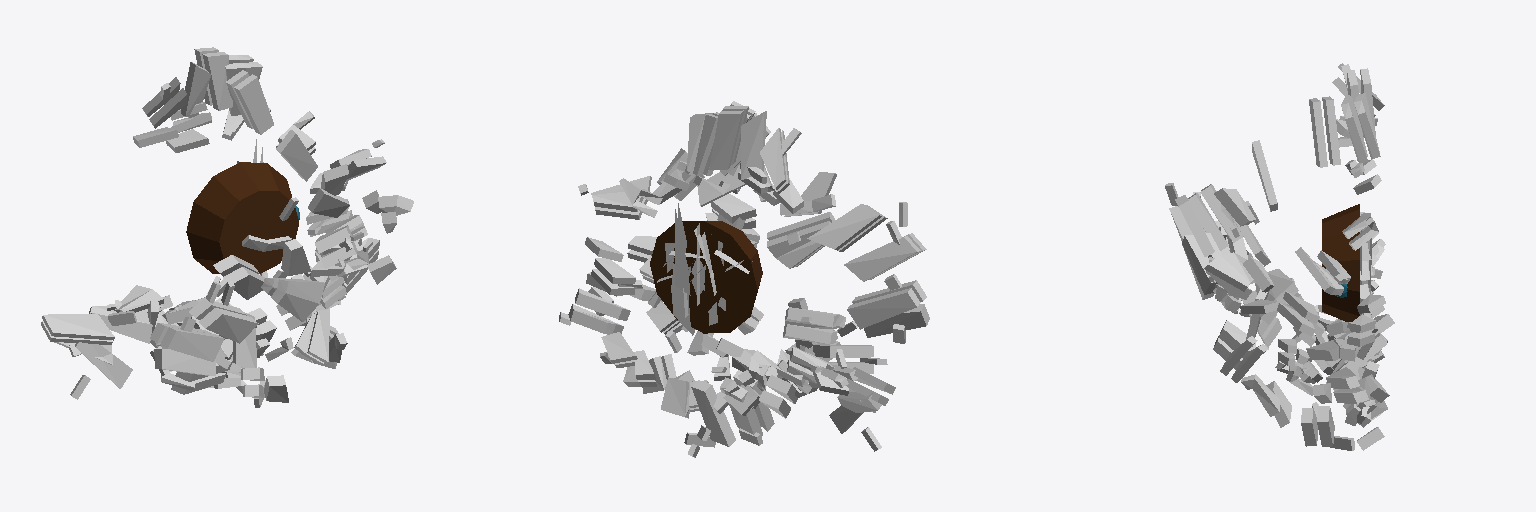
3 views of the same model, side by side, from view 1: azimuth 30°, elevation 25°; view 2: azimuth 150°, elevation 25°; view 3: azimuth 270°, elevation 25° (orthographic).
Parts seen in each view (by area): view 1: Cone.001_Cone.001_cover, Cone_Cone_cover, Cylinder_Cylinder_Material.001; view 2: Cone_Cone_cover, Cone.001_Cone.001_cover, Cylinder_Cylinder_Material.001, Plane_Plane_Material.003; view 3: Cone_Cone_cover, Cone.001_Cone.001_cover, Cylinder_Cylinder_Material.001, Plane_Plane_Material.003.
Part boxes in pixels (x1,y1,x2,y2): Cone.001_Cone.001_cover: (41,47,386,399); Cone_Cone_cover: (108,164,413,407); Cylinder_Cylinder_Material.001: (186,162,298,273); Cone_Cone_cover: (559,148,929,457); Cone.001_Cone.001_cover: (578,101,907,451); Cylinder_Cylinder_Material.001: (650,221,762,333); Plane_Plane_Material.003: (657,203,752,335); Cone_Cone_cover: (1169,184,1394,450); Cone.001_Cone.001_cover: (1165,63,1385,403); Cylinder_Cylinder_Material.001: (1322,204,1359,321); Plane_Plane_Material.003: (1360,212,1372,315).
Bounding box in the file's own units: 3.42 × 3.53 × 2.06.
4 materials, 1 textured.